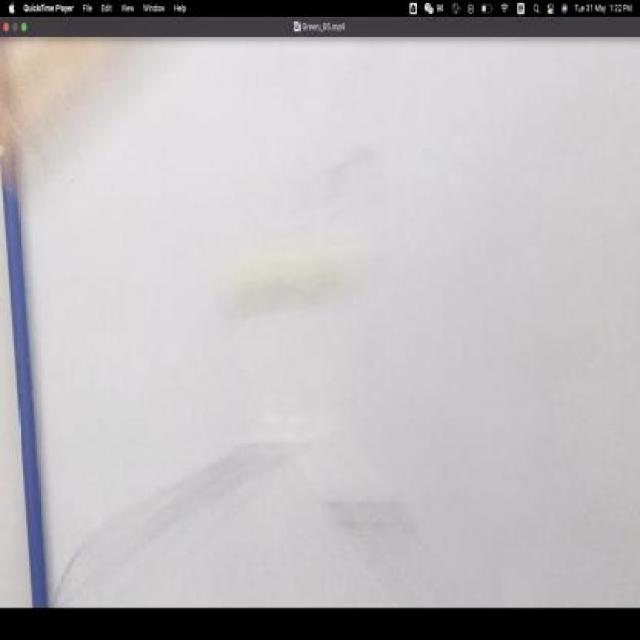baseball: (219, 235, 364, 311)
